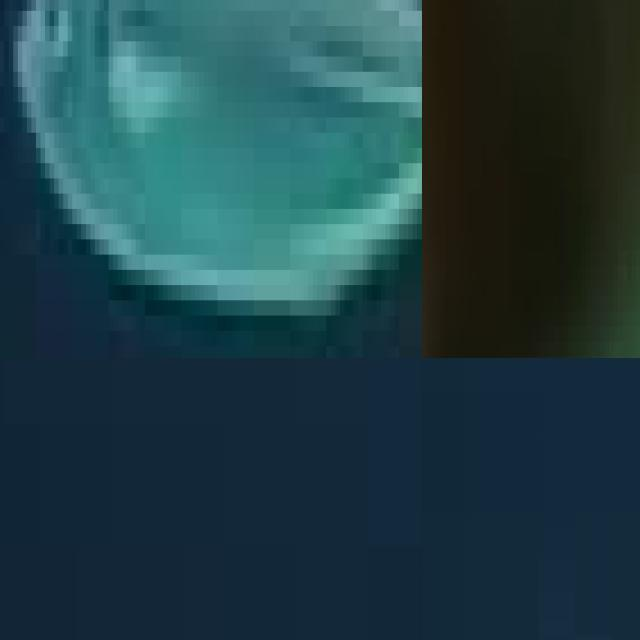fish: (0, 0, 422, 358)
